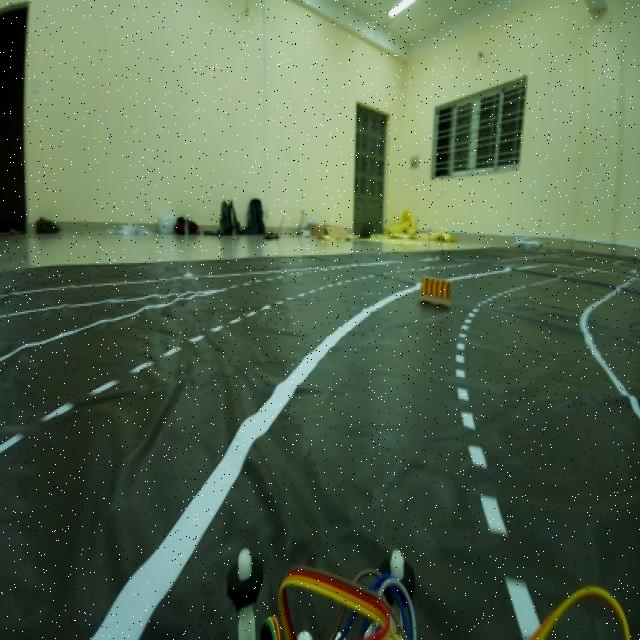roadblock: (410, 262, 455, 319)
